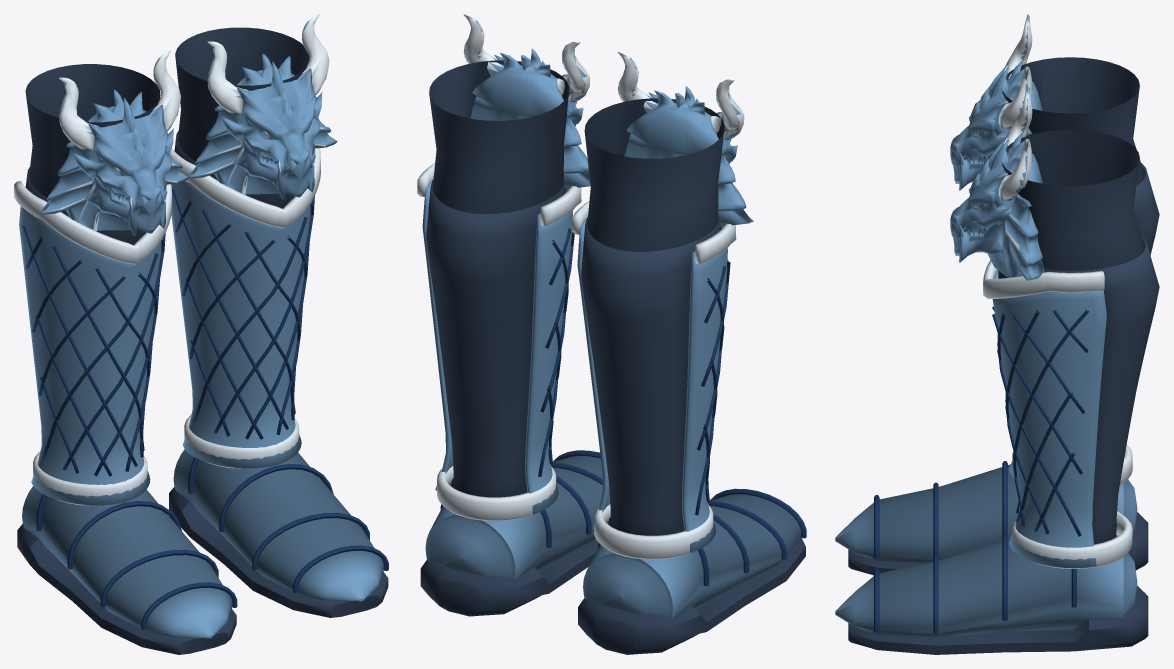
File: f_dragonknight_ice.glb
The picture shows the model from 3 angles, left to right: view 1: azimuth 30°, elevation 25°; view 2: azimuth 150°, elevation 25°; view 3: azimuth 270°, elevation 25°; orthographic projection. The views are drawn at different scales.
Visible parts, largest first — view 1: LegR_Boot, LegL_Boot, LegR_BootFoot, LegL_BootFoot; view 2: LegR_Boot, LegL_Boot, LegR_BootFoot, LegL_BootFoot; view 3: LegL_Boot, LegL_BootFoot, LegR_Boot, LegR_BootFoot.
Boxes of the visible parts, x1,y1,x2,y2 form: LegR_Boot: (14, 50, 188, 505); LegL_Boot: (170, 14, 337, 468); LegR_BootFoot: (17, 486, 237, 654); LegL_BootFoot: (169, 449, 388, 617); LegR_Boot: (571, 52, 753, 559); LegL_Boot: (417, 14, 590, 520); LegR_BootFoot: (578, 488, 806, 654); LegL_BootFoot: (420, 450, 602, 616); LegL_Boot: (950, 86, 1159, 568); LegL_BootFoot: (835, 534, 1148, 654); LegR_Boot: (950, 14, 1159, 485); LegR_BootFoot: (835, 461, 1148, 575).
Size of the model in its own units: 0.3797 by 0.6376 by 0.3613.
